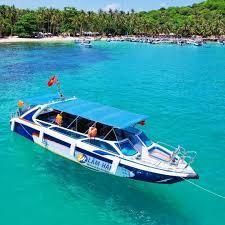Ship: (11, 100, 200, 184)
